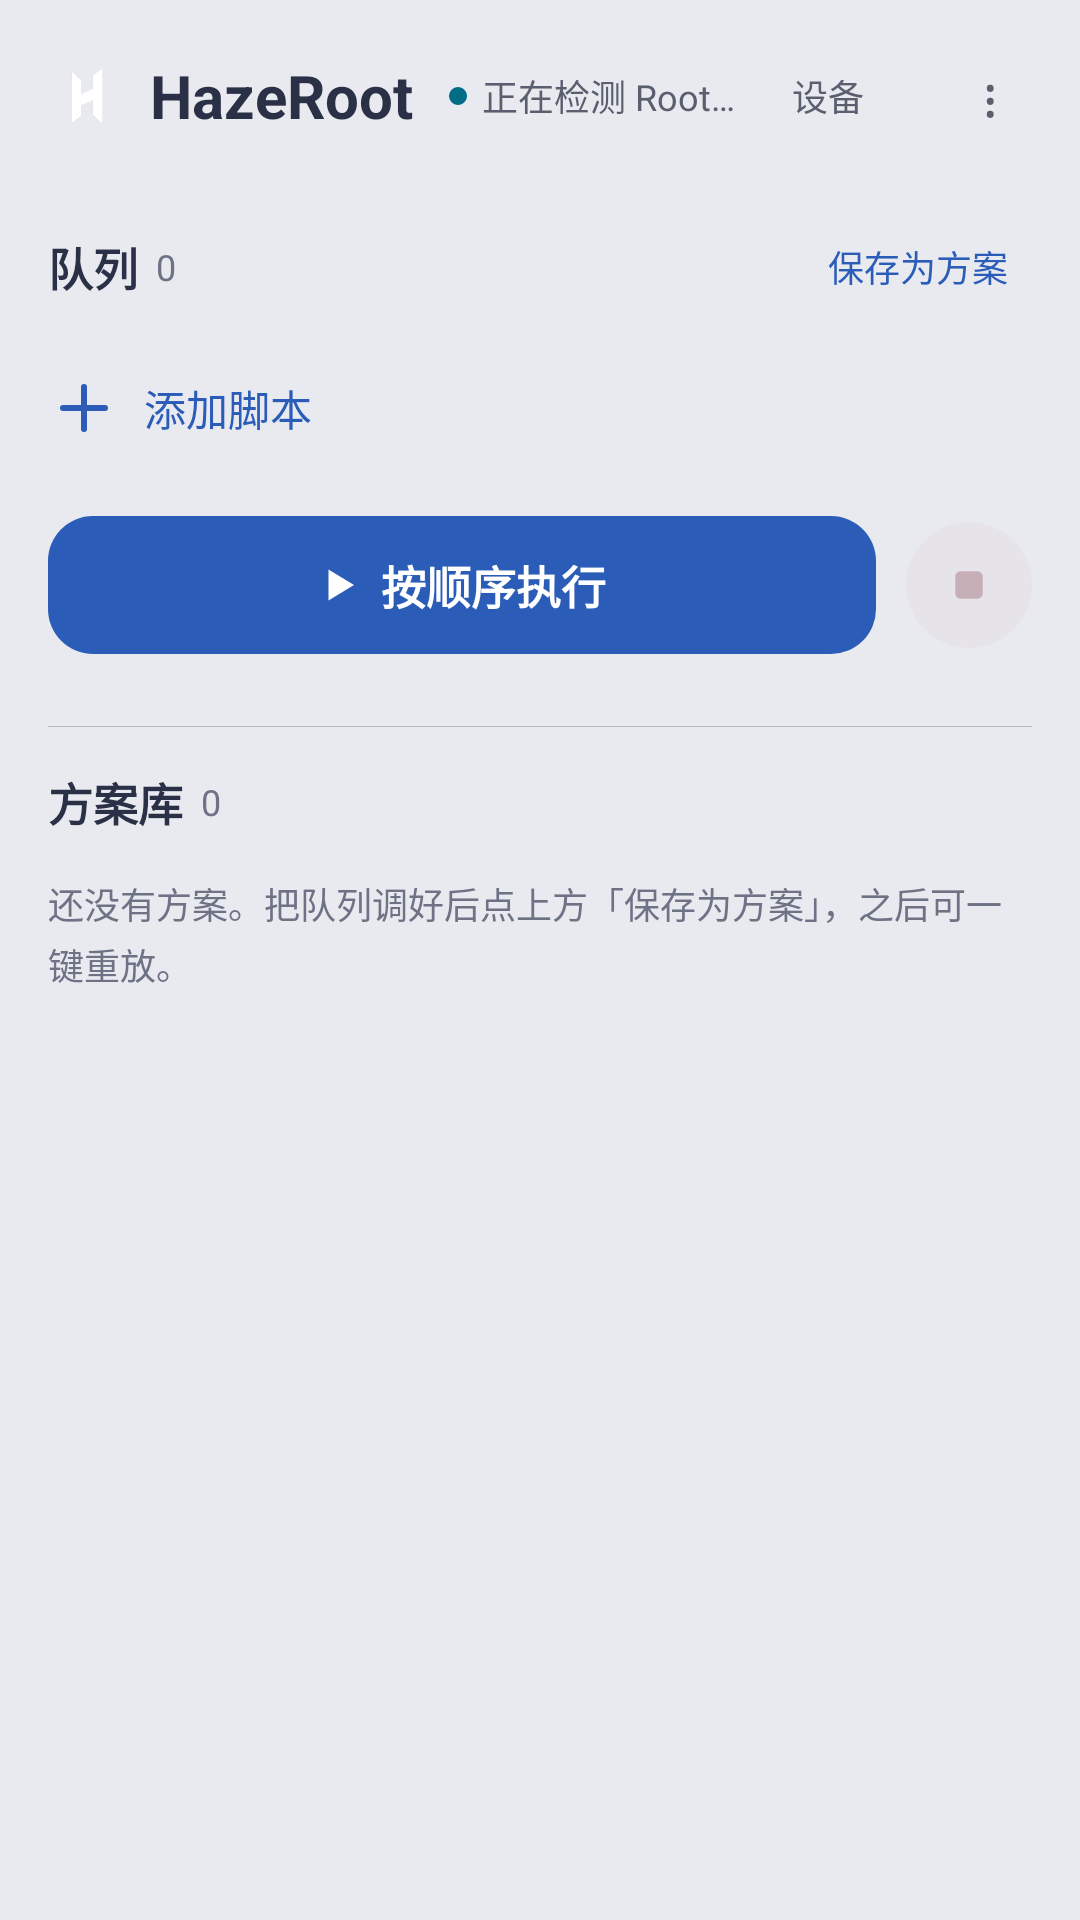

Named icons in this screenshot (1080w x 1920h) and their centers, (x,y):
play: (341,585)
